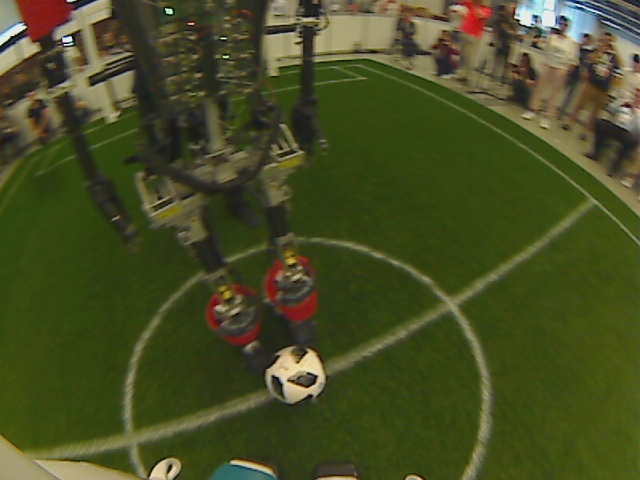ball: (260, 342, 330, 406)
